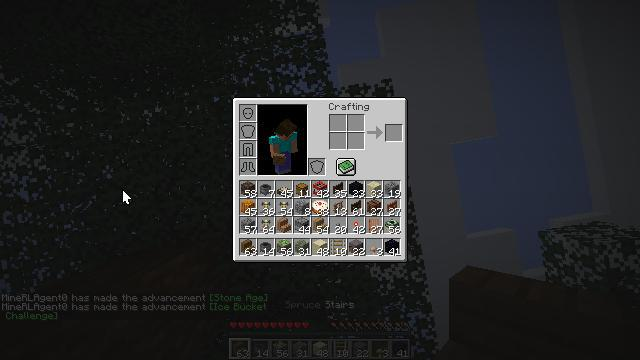cursor: (122, 189, 132, 205)
